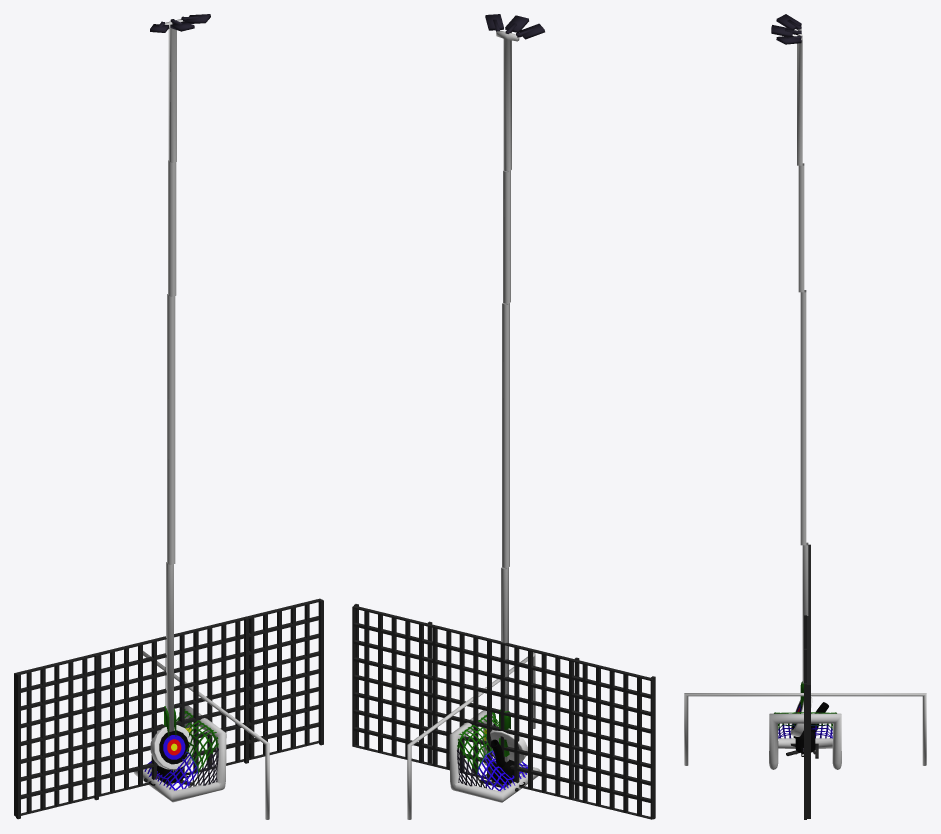
The model's file is Assets.gltf.
3 renders of one model, left to right at view 1: azimuth 30°, elevation 25°; view 2: azimuth 150°, elevation 25°; view 3: azimuth 270°, elevation 25°, orthographic. The views are drawn at different scales.
Parts seen in each view (by area): view 1: SM_Fencing, SM_FloodLight, SM_SGoalPost, SM_Target, SM_GoalPost; view 2: SM_Fencing, SM_FloodLight, SM_SGoalPost, SM_GoalPost, SM_Feeder; view 3: SM_FloodLight, SM_SGoalPost, SM_Fencing, SM_GoalPost.
Boxes of the visible parts, x1,y1,x2,y2 form: SM_Fencing: (14, 598, 323, 819); SM_FloodLight: (144, 14, 210, 785); SM_SGoalPost: (133, 705, 226, 802); SM_Target: (150, 725, 193, 784); SM_GoalPost: (143, 651, 269, 819); SM_Fencing: (352, 604, 655, 819); SM_FloodLight: (479, 14, 544, 791); SM_SGoalPost: (449, 710, 540, 802); SM_GoalPost: (407, 652, 535, 819); SM_Feeder: (484, 739, 525, 786); SM_FloodLight: (771, 14, 818, 758); SM_SGoalPost: (769, 712, 841, 769); SM_Fencing: (804, 544, 810, 819); SM_GoalPost: (684, 693, 926, 765).
Bounding box in the file's own units: 10 × 24.13 × 7.29.
2 materials, 2 textured.
